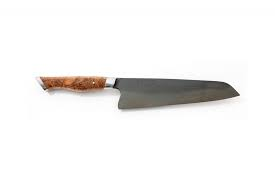knife: (34, 75, 241, 110)
